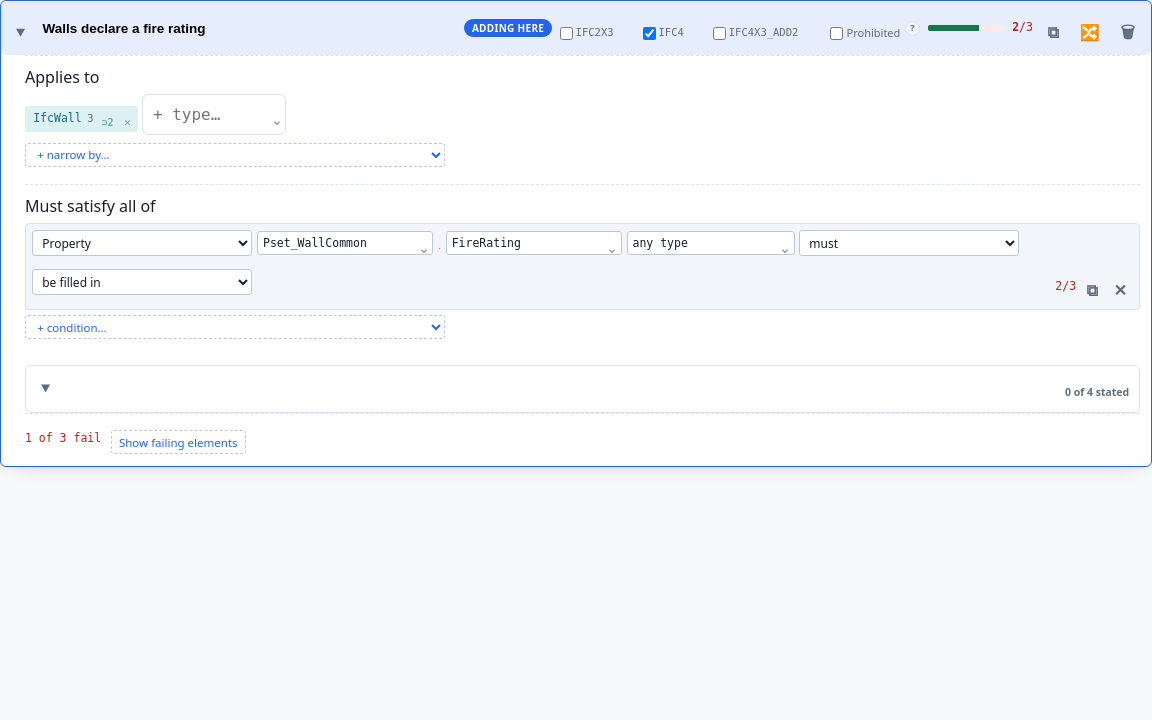
Test: RuleCard › lists the elements that fail, on demand
Click the button "Show failing elements": click(178, 442) [111,430,246,454]
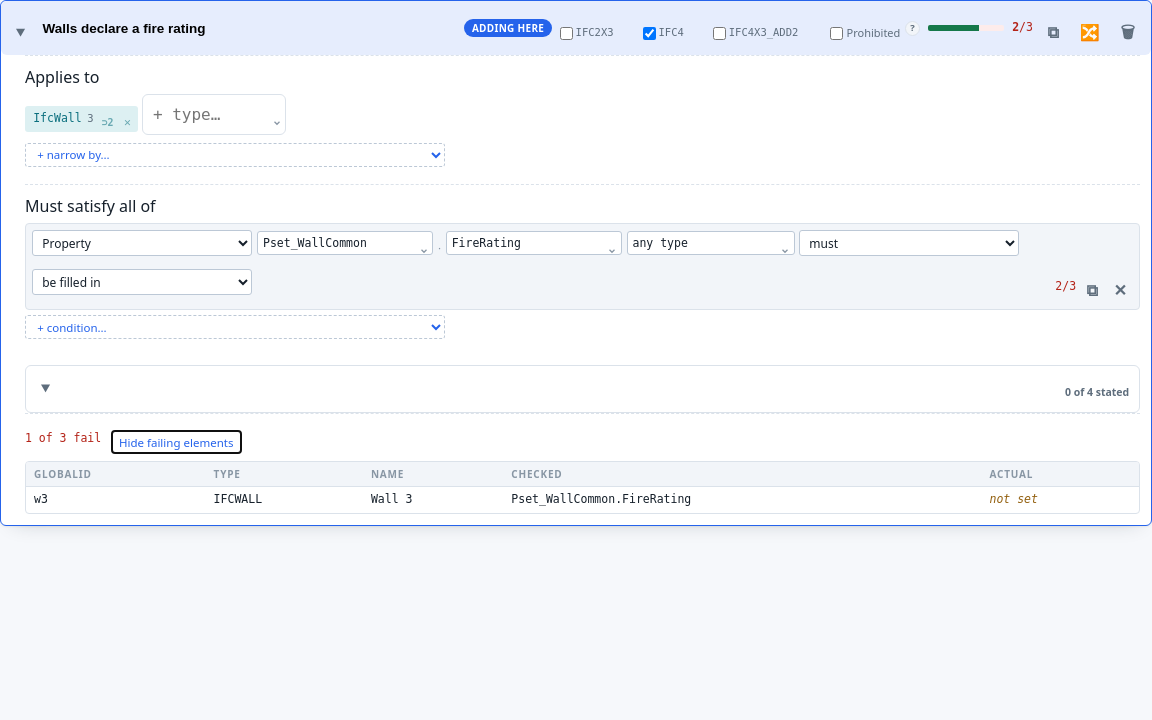
Expected: the text "w3" is shown, [26,488,206,513]
Expected: the text "not set" is shown, [990,492,1038,506]
